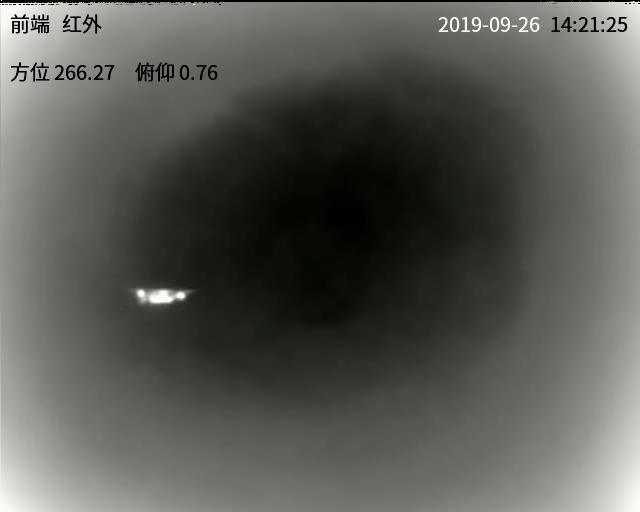uav: (134, 283, 193, 311)
